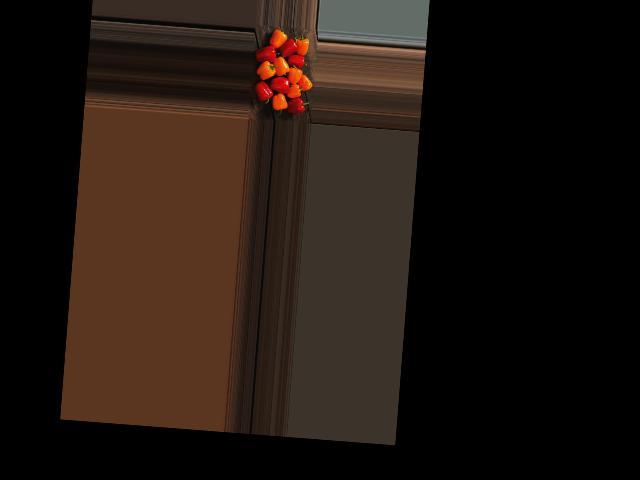bell_pepper: (265, 28, 288, 54)
